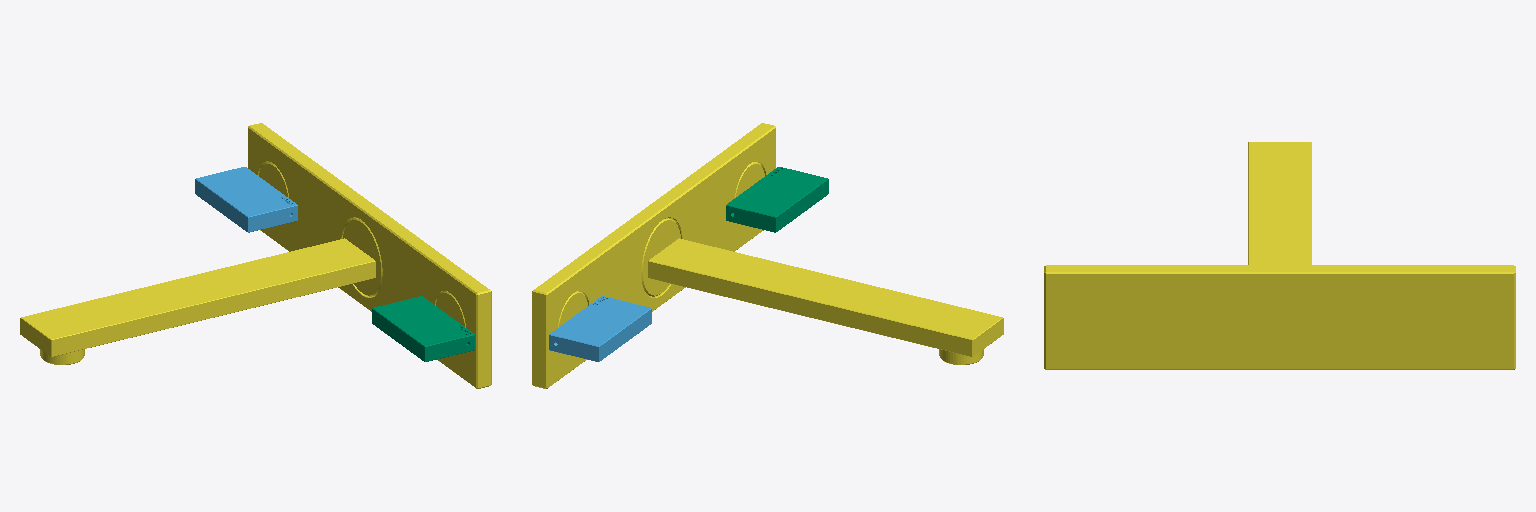
robot.urdf — partnet_d8844694dff0986d30fff73f53312a3f:
<?xml version="1.0" ?>
<robot name="partnet_d8844694dff0986d30fff73f53312a3f">
	<link name="base"/>
	<link name="link_0">
		<visual name="switch-2">
			<origin xyz="0.5886995 -0.001270499999999999 0"/>
			<geometry>
				<mesh filename="textured_objs/original-3.obj"/>
			</geometry>
		</visual>
		<collision>
			<origin xyz="0.5886995 -0.001270499999999999 0"/>
			<geometry>
				<mesh filename="textured_objs/original-3.obj"/>
			</geometry>
		</collision>
	</link>
	<joint name="joint_0" type="revolute">
		<origin xyz="-0.5886995 0.001270499999999999 0"/>
		<axis xyz="0 0 -1"/>
		<child link="link_0"/>
		<parent link="link_2"/>
		<limit lower="-0.0" upper="1.5707963267948966"/>
	</joint>
	<link name="link_1">
		<visual name="switch-11">
			<origin xyz="-0.5303785 -0.001270499999999999 0"/>
			<geometry>
				<mesh filename="textured_objs/original-6.obj"/>
			</geometry>
		</visual>
		<collision>
			<origin xyz="-0.5303785 -0.001270499999999999 0"/>
			<geometry>
				<mesh filename="textured_objs/original-6.obj"/>
			</geometry>
		</collision>
	</link>
	<joint name="joint_1" type="revolute">
		<origin xyz="0.5303785 0.001270499999999999 0"/>
		<axis xyz="0 0 1"/>
		<child link="link_1"/>
		<parent link="link_2"/>
		<limit lower="0.0" upper="1.5707963267948966"/>
	</joint>
	<link name="link_2">
		<visual name="horizontal_support-10">
			<origin xyz="0 0 0"/>
			<geometry>
				<mesh filename="textured_objs/original-8.obj"/>
			</geometry>
		</visual>
		<visual name="tube-5">
			<origin xyz="0 0 0"/>
			<geometry>
				<mesh filename="textured_objs/original-9.obj"/>
			</geometry>
		</visual>
		<visual name="mouth-6">
			<origin xyz="0 0 0"/>
			<geometry>
				<mesh filename="textured_objs/original-7.obj"/>
			</geometry>
		</visual>
		<collision>
			<origin xyz="0 0 0"/>
			<geometry>
				<mesh filename="textured_objs/original-8.obj"/>
			</geometry>
		</collision>
		<collision>
			<origin xyz="0 0 0"/>
			<geometry>
				<mesh filename="textured_objs/original-9.obj"/>
			</geometry>
		</collision>
		<collision>
			<origin xyz="0 0 0"/>
			<geometry>
				<mesh filename="textured_objs/original-7.obj"/>
			</geometry>
		</collision>
	</link>
	<joint name="joint_2" type="fixed">
		<origin rpy="1.570796326794897 0 -1.570796326794897" xyz="0 0 0"/>
		<child link="link_2"/>
		<parent link="base"/>
	</joint>
</robot>

--- Facts derived from the render (not from the file) ---
The picture shows the robot from 3 angles, left to right: view 1: azimuth 30°, elevation 25°; view 2: azimuth 150°, elevation 25°; view 3: azimuth 270°, elevation 25°; orthographic projection.
Robot: partnet_d8844694dff0986d30fff73f53312a3f — 4 links, 3 joints (2 revolute, 1 fixed); root link base; default pose: all joints at 0.
Visible links, largest first — view 1: link_2, link_1, link_0; view 2: link_2, link_0, link_1; view 3: link_2.
Link boxes in pixels (box(x1,y1,x2,y2)): link_2: box(20, 123, 491, 388); link_1: box(372, 296, 474, 361); link_0: box(195, 167, 297, 232); link_2: box(532, 123, 1003, 388); link_0: box(549, 296, 651, 361); link_1: box(726, 167, 828, 232); link_2: box(1044, 142, 1515, 369).
Size in the robot's own frame: 1.25 by 1.45 by 0.3357 metres.
Meshes: 5 distinct files referenced, 5 mesh visuals loaded (5 OBJ).
